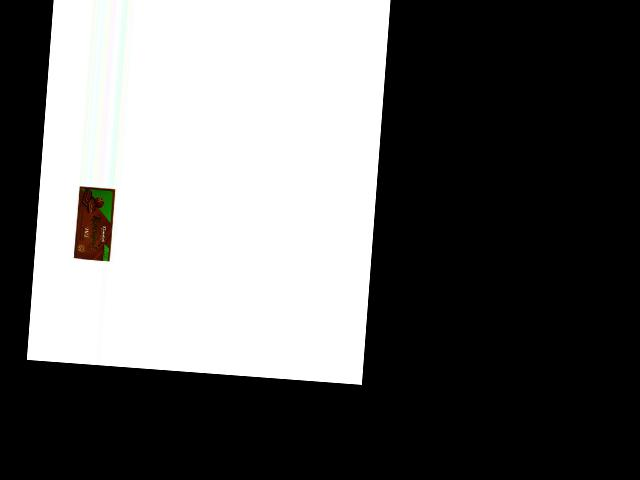chocolate: (70, 185, 116, 264)
